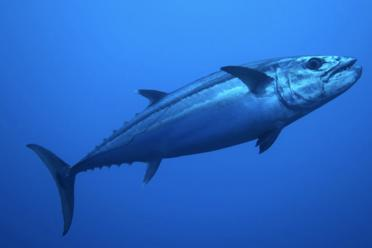Scombridae -Tunas-: (19, 49, 366, 245)
